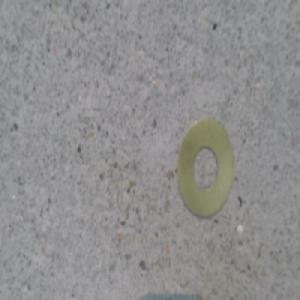Washer: (175, 113, 233, 219)
